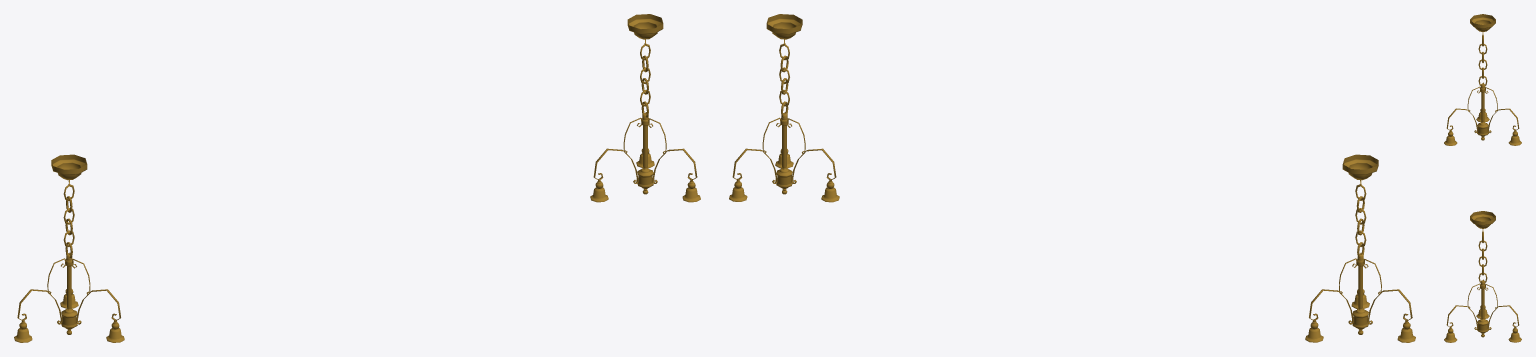
File: Subsurfed_Porch.027.obj
3 views of the same model, side by side, from view 1: azimuth 30°, elevation 25°; view 2: azimuth 150°, elevation 25°; view 3: azimuth 270°, elevation 25° (orthographic). The views are drawn at different scales.
Parts seen in each view (by area): view 1: Subsurfed_Porch.027_Cube.001; view 2: Subsurfed_Porch.027_Cube.001; view 3: Subsurfed_Porch.027_Cube.001.
Part boxes in pixels (box(x1,y1,x2,y2)): Subsurfed_Porch.027_Cube.001: box(14, 14, 700, 342); Subsurfed_Porch.027_Cube.001: box(729, 14, 1415, 342); Subsurfed_Porch.027_Cube.001: box(1444, 14, 1521, 342).
Bounding box in the file's own units: 2.79 × 0.6963 × 0.4069.
